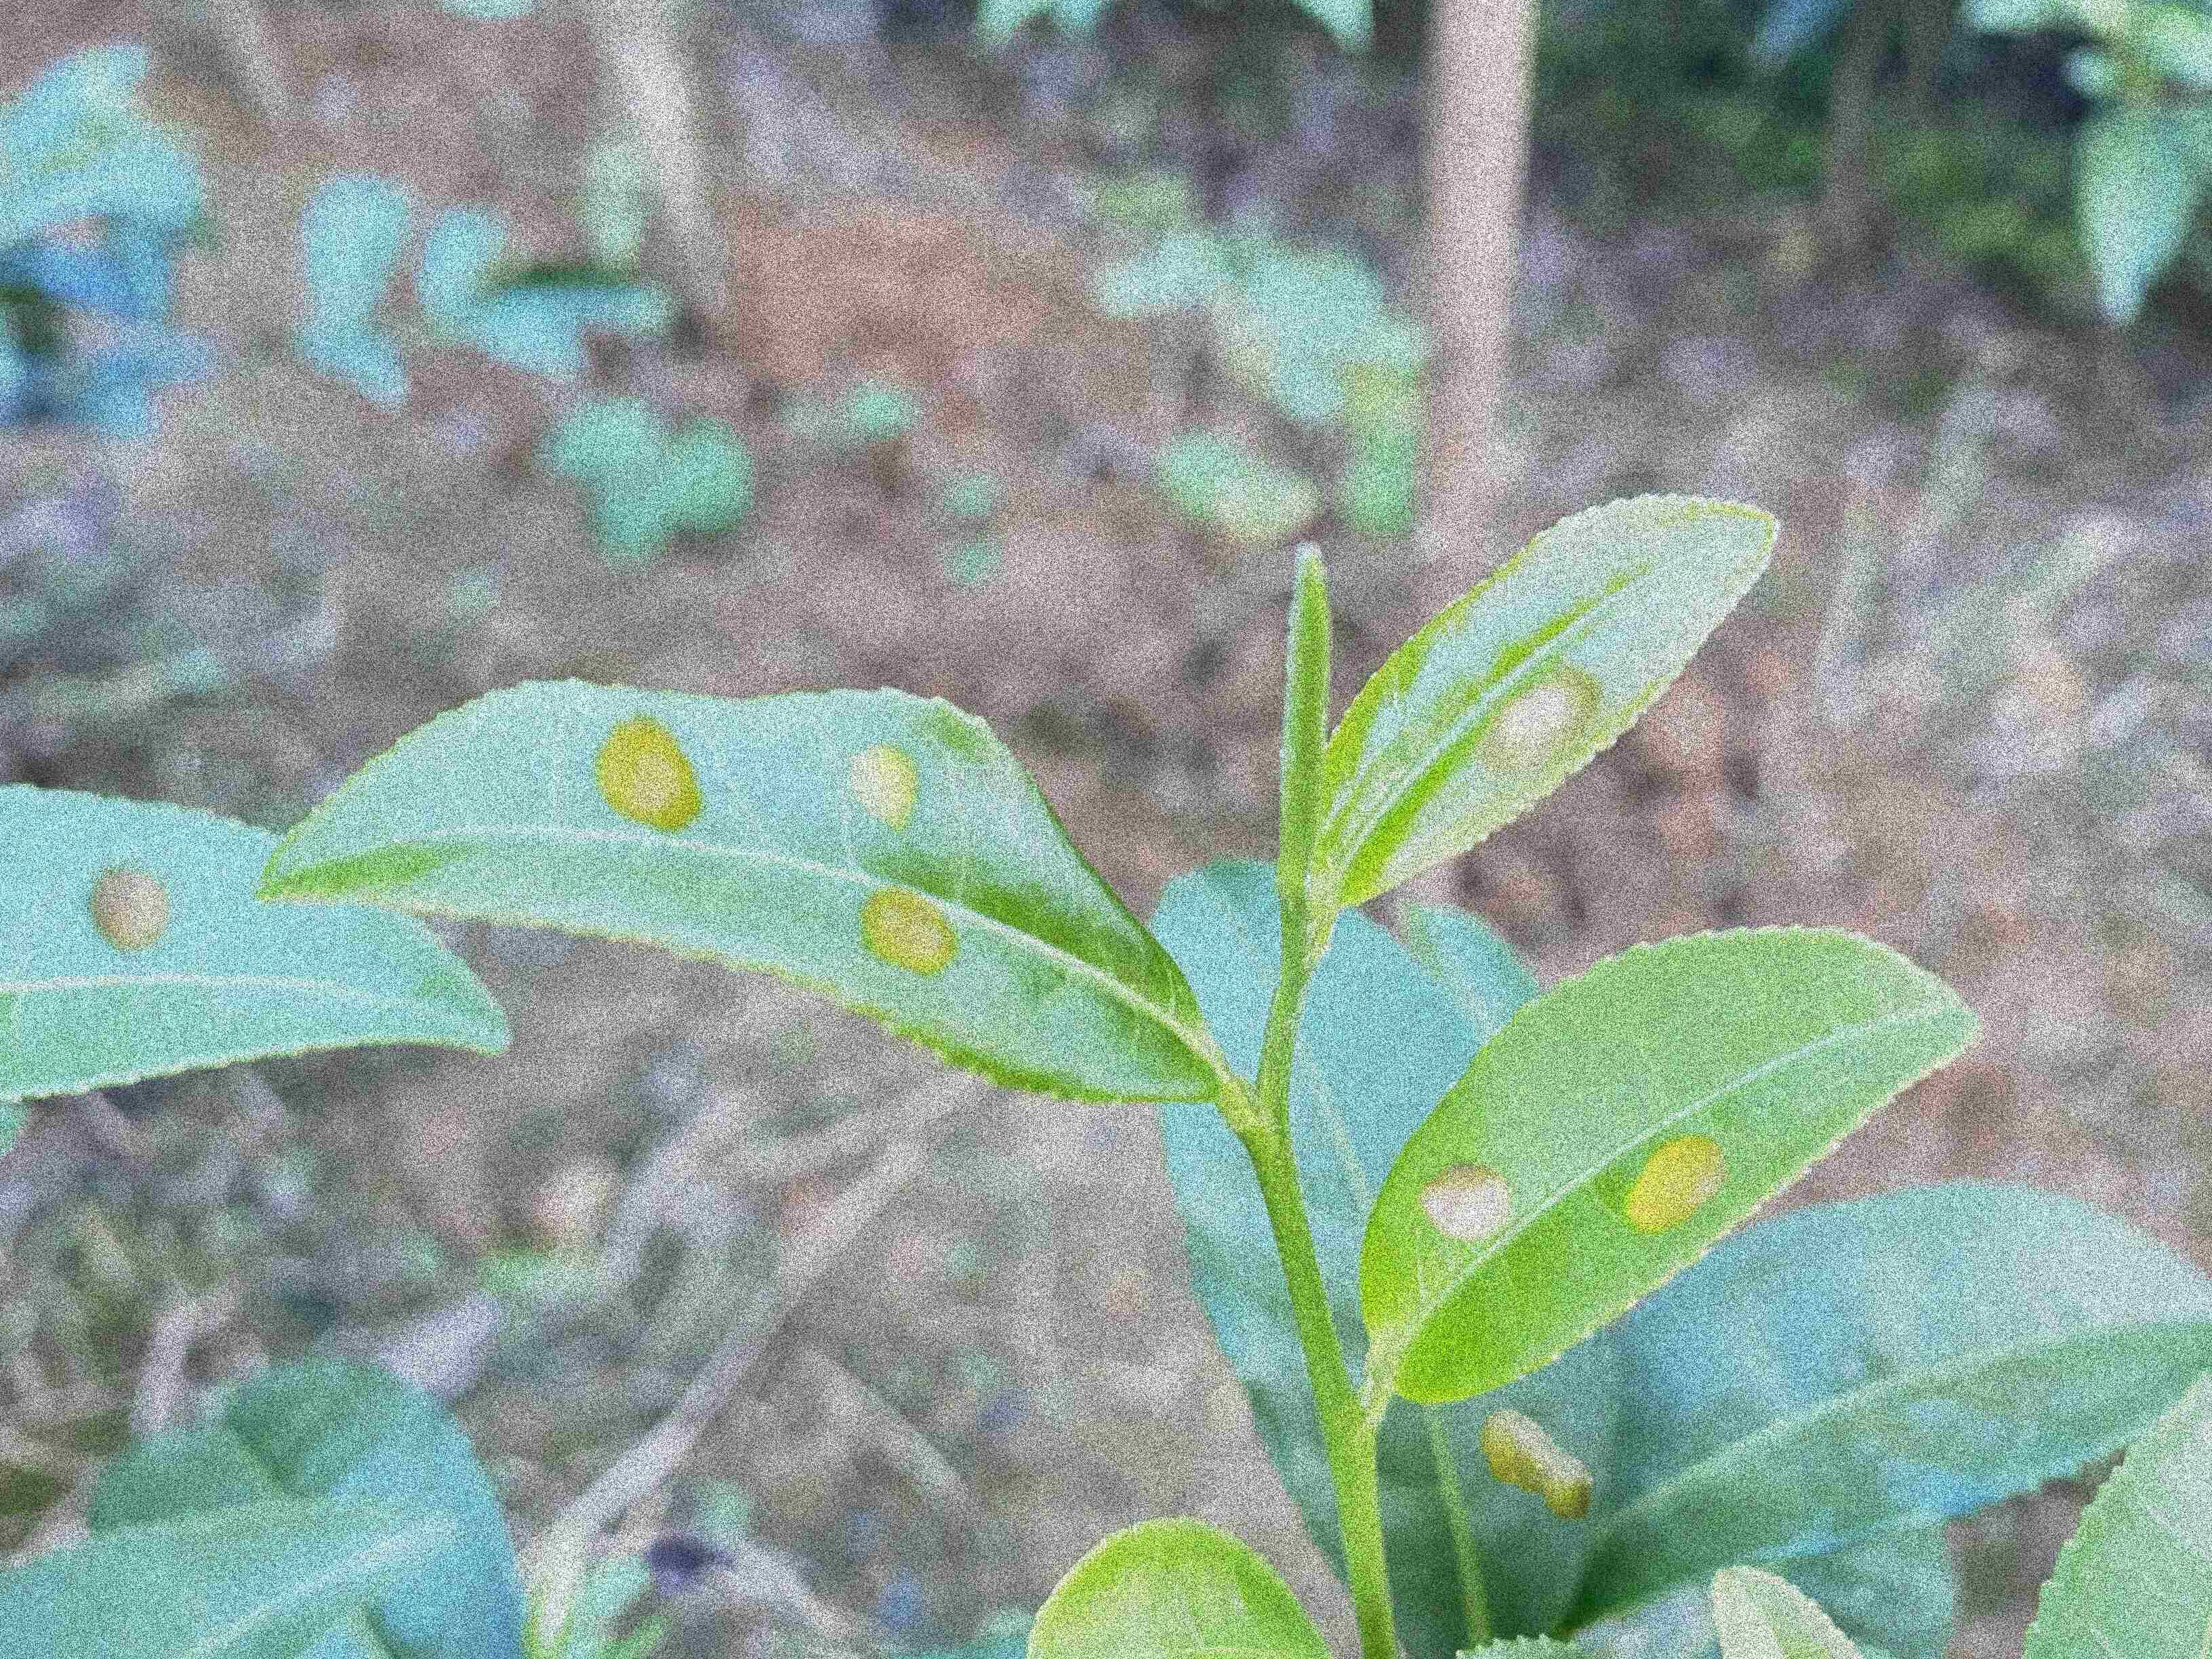chabing_high: (256, 671, 1221, 1107), (1357, 925, 1980, 1406)
chabing_low: (1151, 843, 1618, 1656), (1317, 490, 1785, 904), (0, 777, 516, 1107)
